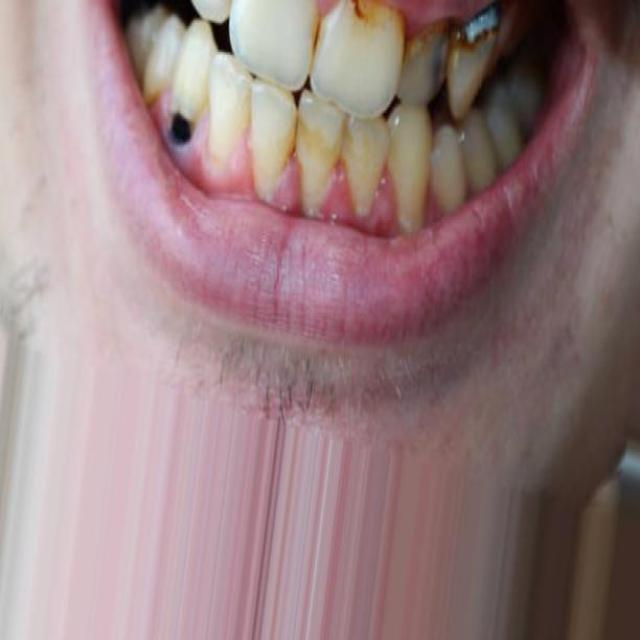caries: (160, 87, 206, 166), (458, 0, 516, 55), (402, 5, 448, 66), (337, 0, 381, 41)
